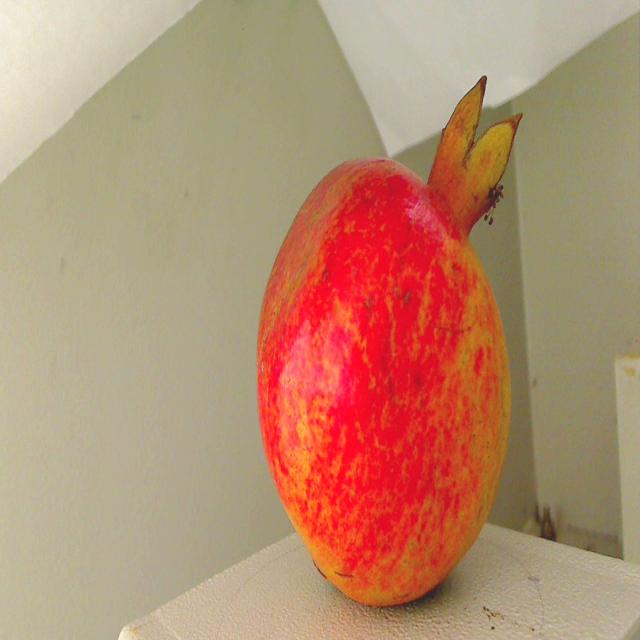pomegranate: (245, 60, 537, 607)
